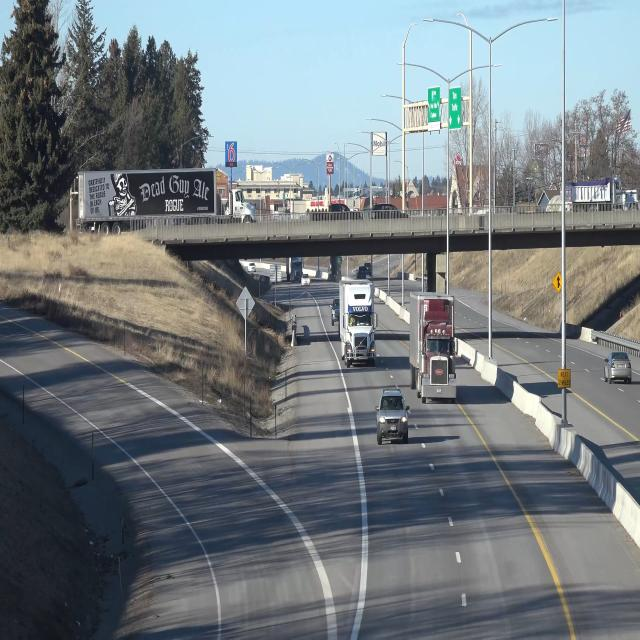Car: (408, 288, 459, 406), (340, 276, 378, 366), (376, 388, 411, 447), (604, 348, 634, 387)
